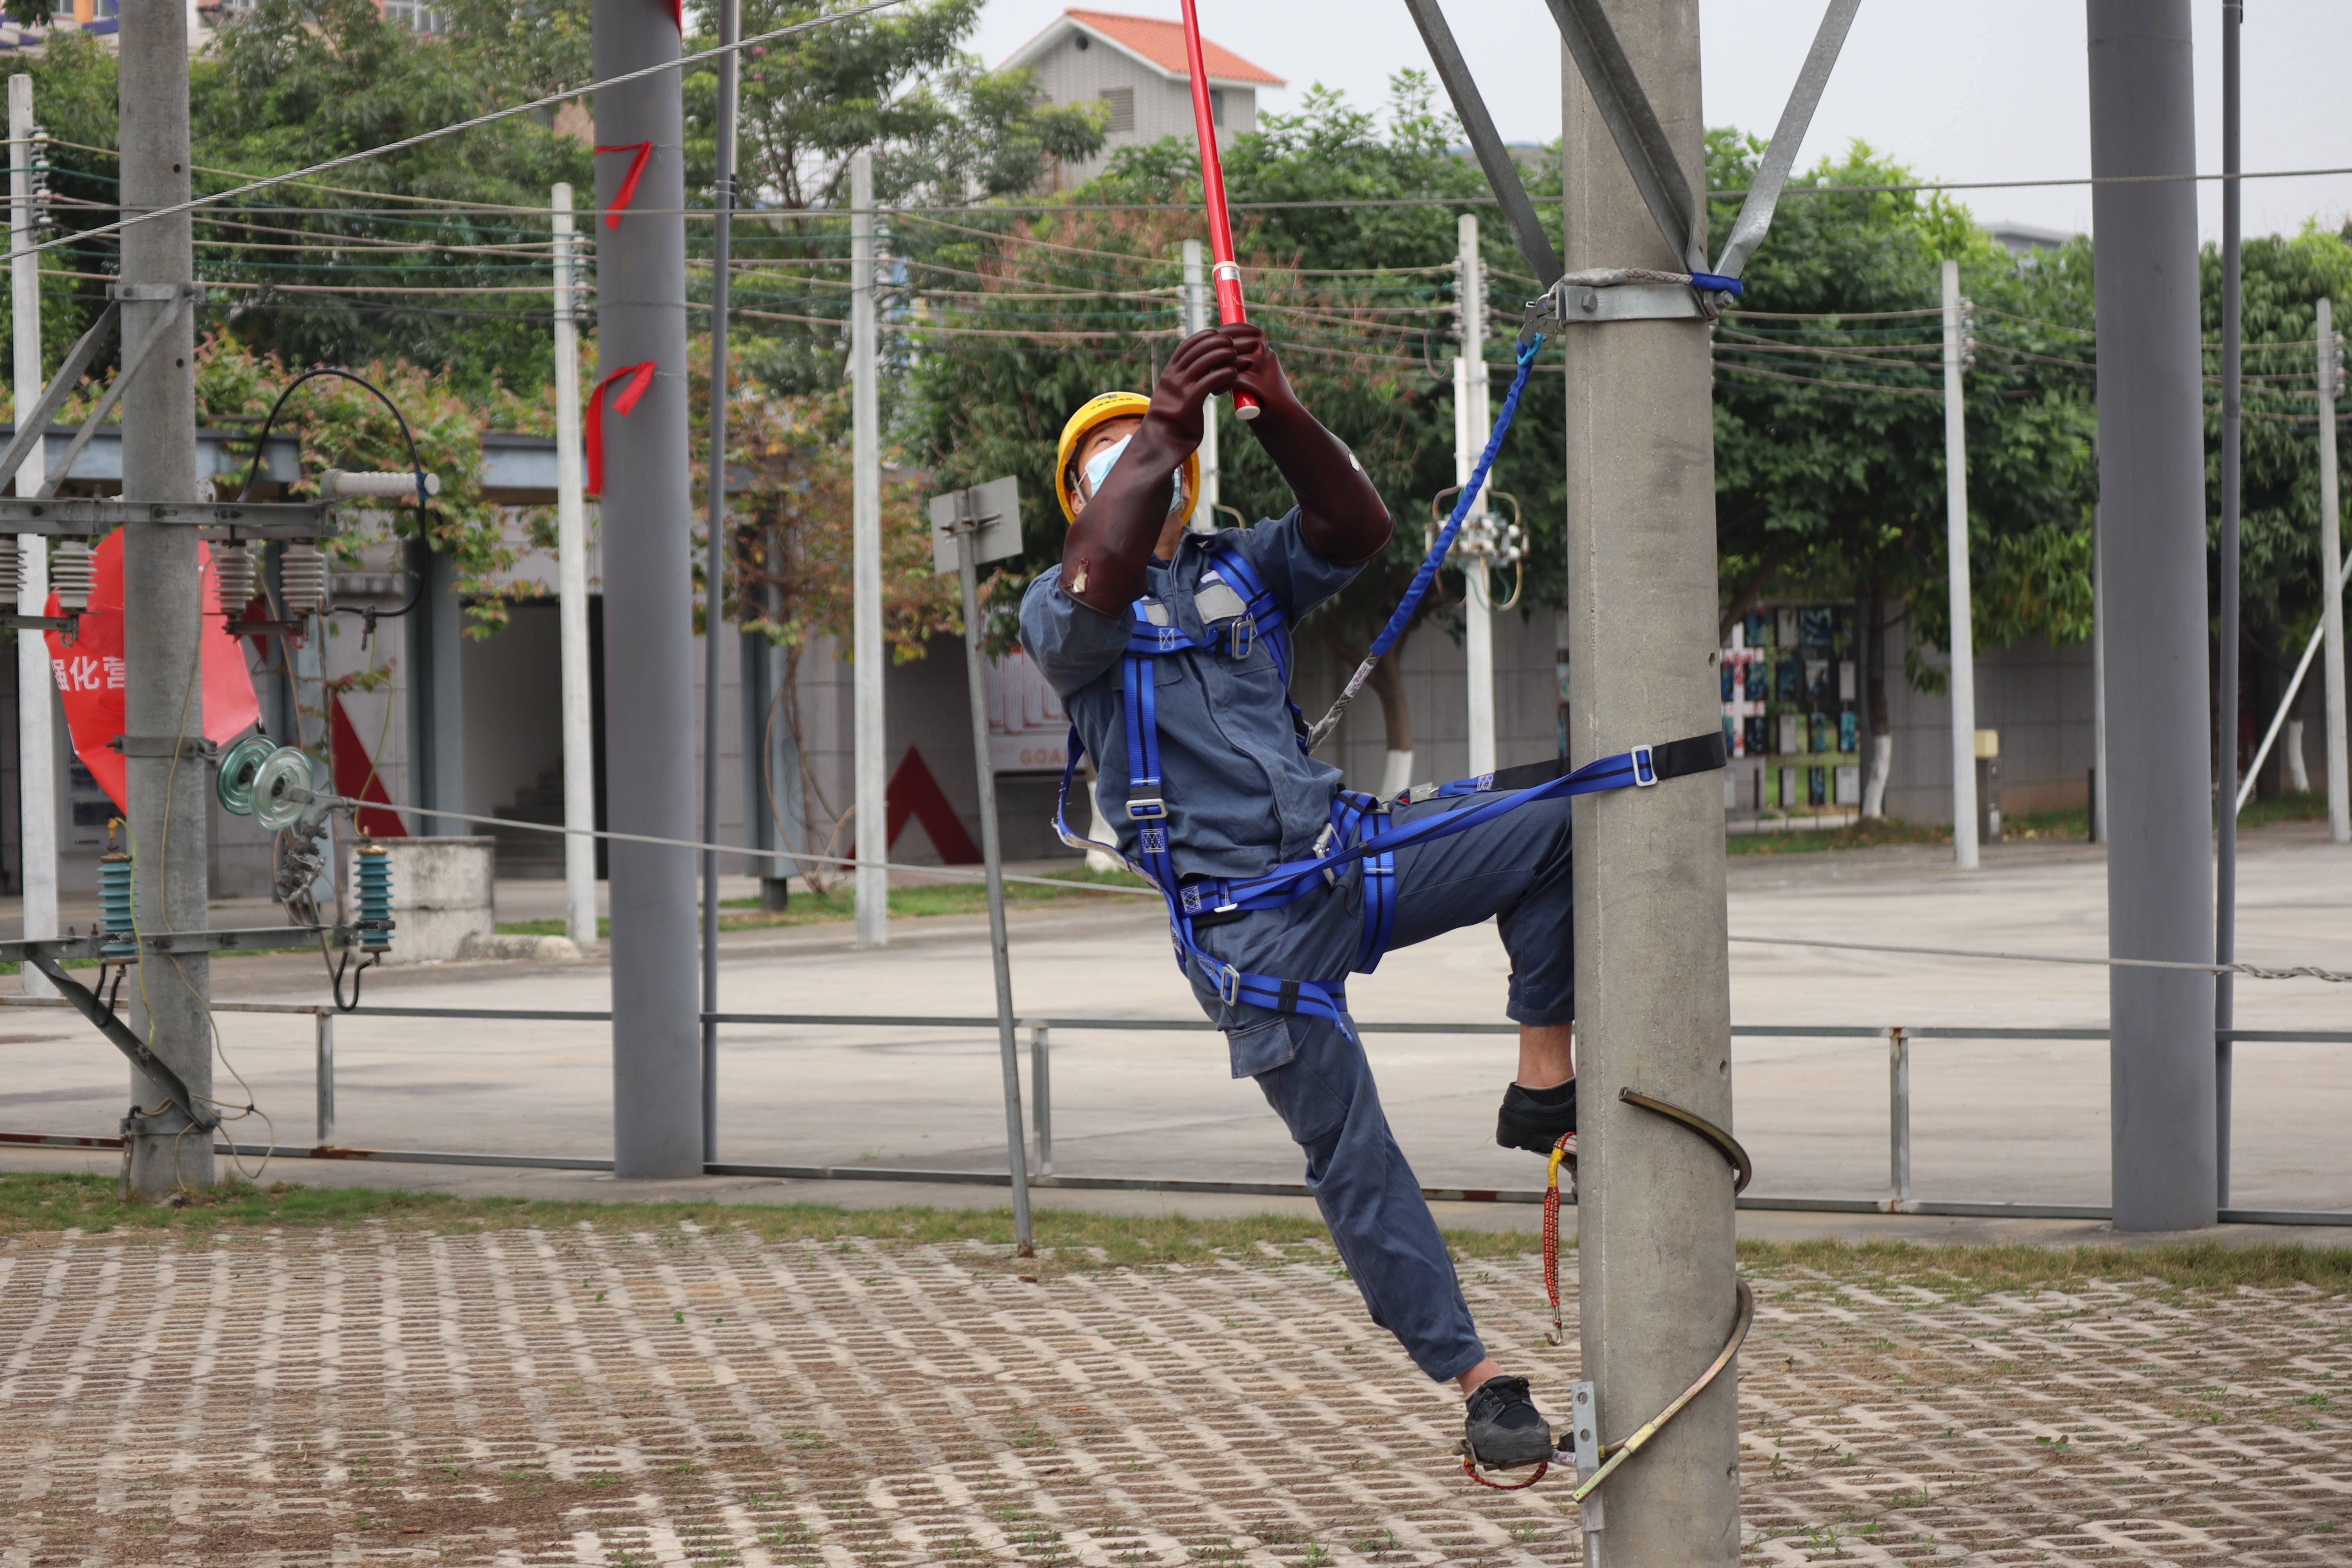downsuit: (1167, 793, 1586, 1405)
upsuit: (1020, 516, 1358, 859)
